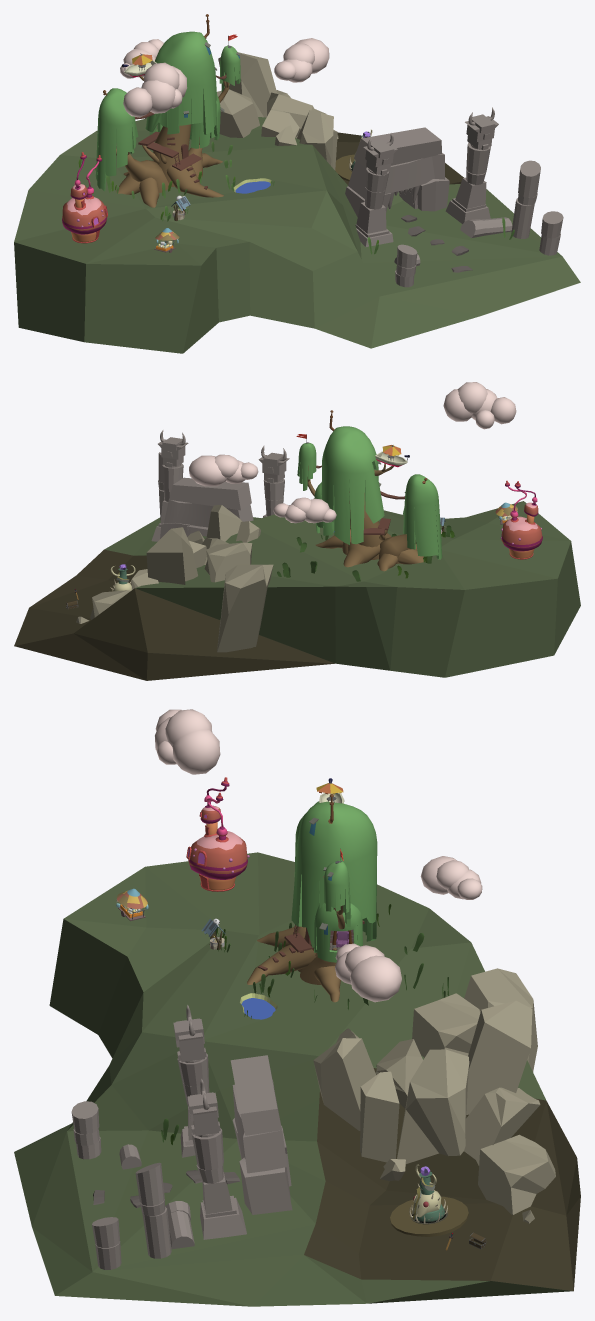
File: adv_time1.fbx
The picture shows the model from 3 angles, top to bottom: view 1: azimuth 30°, elevation 25°; view 2: azimuth 150°, elevation 25°; view 3: azimuth 270°, elevation 25°; orthographic projection. The views are drawn at different scales.
Visible parts, largest first — view 1: Plane.004, Cube, Cube.002, Cube.008, Icosphere.003, CANDY_H, plants, Cube.011, idol; view 2: Plane.004, Cube.002, Cube.008, Cube, Icosphere.003, CANDY_H, plants, idol; view 3: Plane.004, Cube.008, Cube, Cube.002, Icosphere.003, CANDY_H, idol, plants, Cylinder.002.
Part boxes in pixels (<box>): Plane.004: <box>14,117,580,353</box>; Cube: <box>345,107,563,287</box>; Cube.002: <box>95,14,240,207</box>; Cube.008: <box>144,52,338,170</box>; Icosphere.003: <box>120,38,329,117</box>; CANDY_H: <box>62,152,107,243</box>; plants: <box>78,129,514,254</box>; Cube.011: <box>401,215,472,272</box>; idol: <box>335,129,372,181</box>; Plane.004: <box>14,501,580,680</box>; Cube.002: <box>296,410,442,571</box>; Cube.008: <box>76,505,273,652</box>; Cube: <box>151,430,314,541</box>; Icosphere.003: <box>189,382,516,523</box>; CANDY_H: <box>500,480,542,559</box>; plants: <box>277,525,455,581</box>; idol: <box>110,564,135,591</box>; Plane.004: <box>14,852,580,1306</box>; Cube.008: <box>313,968,555,1223</box>; Cube: <box>71,1005,292,1269</box>; Cube.002: <box>247,778,377,1002</box>; Icosphere.003: <box>155,709,482,1002</box>; CANDY_H: <box>186,777,249,891</box>; idol: <box>390,1164,468,1236</box>; plants: <box>161,904,448,1144</box>; Cylinder.002: <box>116,888,148,920</box>.
Bounding box in the file's own units: 7035 × 3606 × 5262.
